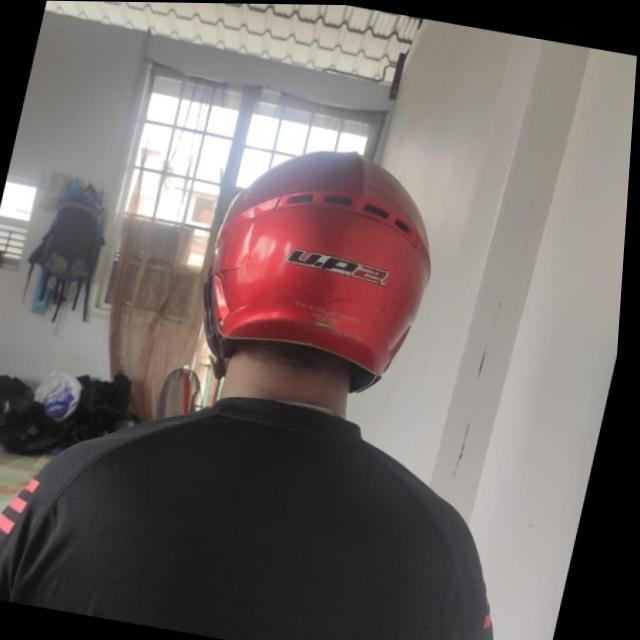helmet: (187, 128, 456, 408)
